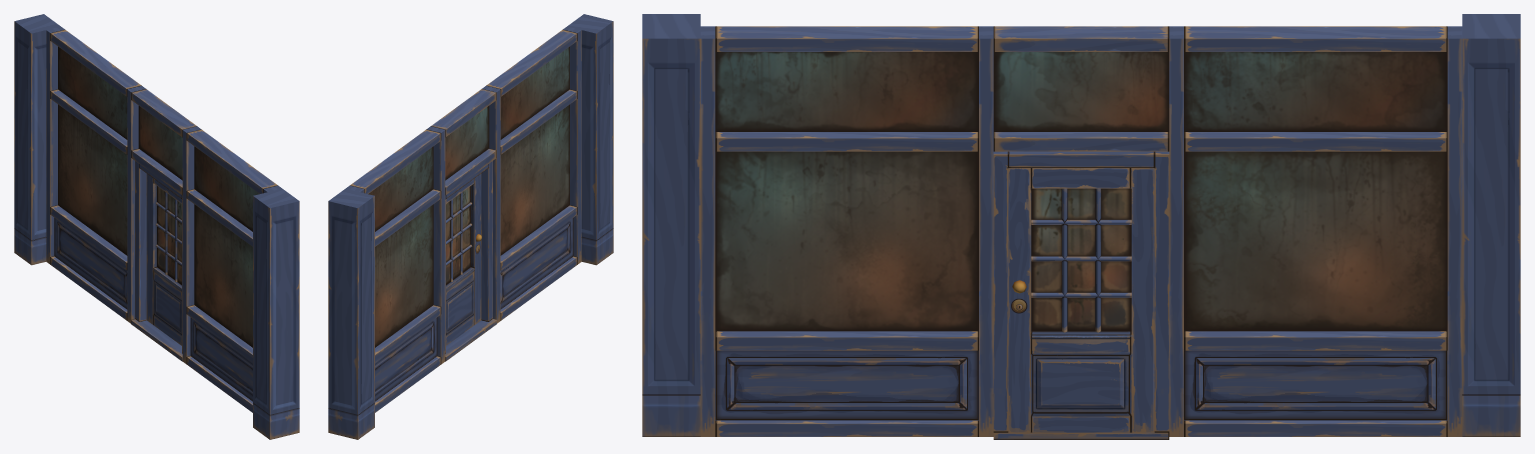
The model's file is storeFront02.FBX.
3 renders of one model, left to right at view 1: azimuth 30°, elevation 25°; view 2: azimuth 150°, elevation 25°; view 3: azimuth 270°, elevation 25°, orthographic. The views are drawn at different scales.
Visible parts, largest first — view 1: storeFront02, storeFront02_glass01, storeFront02_glass02, storeFront02_door, storeFront02_glass03, storeFront02_glass05, storeFront02_glass04, storeFront02_door_glass; view 2: storeFront02, storeFront02_glass02, storeFront02_glass01, storeFront02_door, storeFront02_glass05, storeFront02_glass03, storeFront02_glass04, storeFront02_door_glass; view 3: storeFront02, storeFront02_glass01, storeFront02_glass02, storeFront02_door, storeFront02_glass05, storeFront02_glass03, storeFront02_glass04, storeFront02_door_glass.
Part boxes in pixels (<box>): storeFront02: <box>14,14,299,439</box>; storeFront02_glass01: <box>58,104,127,255</box>; storeFront02_glass02: <box>194,204,252,347</box>; storeFront02_door: <box>146,173,181,345</box>; storeFront02_glass03: <box>58,46,127,139</box>; storeFront02_glass05: <box>194,146,259,231</box>; storeFront02_glass04: <box>138,106,182,180</box>; storeFront02_door_glass: <box>157,186,181,284</box>; storeFront02: <box>328,14,613,439</box>; storeFront02_glass02: <box>500,104,569,255</box>; storeFront02_glass01: <box>375,204,433,347</box>; storeFront02_door: <box>446,173,481,345</box>; storeFront02_glass05: <box>500,46,569,139</box>; storeFront02_glass03: <box>368,146,433,231</box>; storeFront02_glass04: <box>445,106,489,180</box>; storeFront02_door_glass: <box>446,186,470,284</box>; storeFront02: <box>642,14,1520,439</box>; storeFront02_glass01: <box>1184,151,1447,331</box>; storeFront02_glass02: <box>715,151,978,331</box>; storeFront02_door: <box>1008,168,1154,432</box>; storeFront02_glass05: <box>715,52,978,131</box>; storeFront02_glass03: <box>1184,52,1447,131</box>; storeFront02_glass04: <box>993,52,1169,131</box>; storeFront02_door_glass: <box>1031,188,1131,331</box>.
Size of the model in its own units: 50 by 300 by 600.
